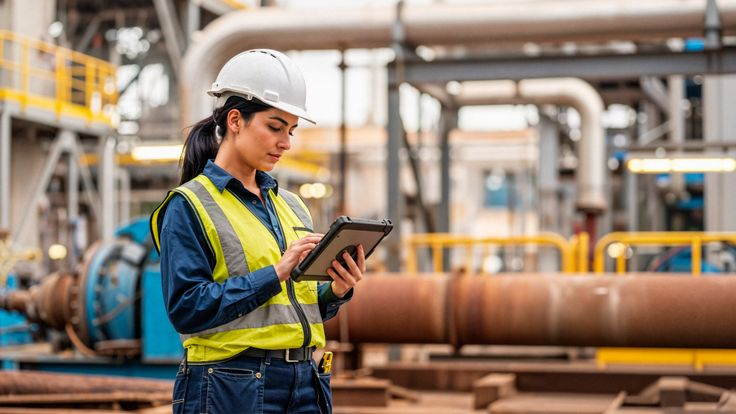hardhat: (213, 50, 321, 127)
person: (146, 48, 366, 411)
safety_vest: (160, 167, 327, 367)
